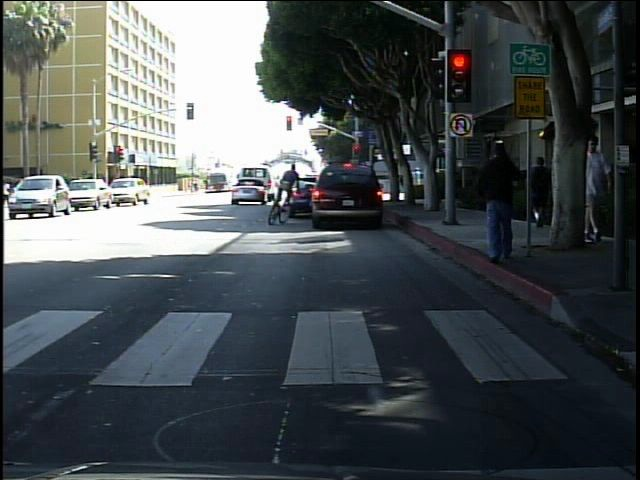person: (475, 131, 524, 269), (251, 149, 313, 225), (582, 134, 616, 243), (532, 151, 554, 230)
